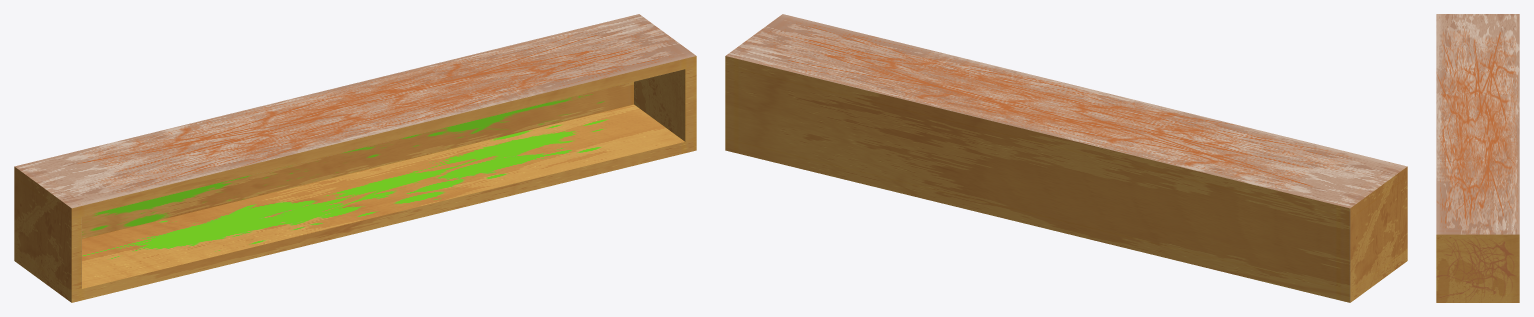
File: Counter4.fbx
3 renders of one model, left to right at view 1: azimuth 30°, elevation 25°; view 2: azimuth 150°, elevation 25°; view 3: azimuth 270°, elevation 25°, orthographic. The views are drawn at different scales.
Visible parts, largest first — view 1: Counter 4; view 2: Counter 4; view 3: Counter 4.
Part boxes in pixels (x1=…): Counter 4: x1=14, y1=14, x2=696, y2=302; Counter 4: x1=725, y1=14, x2=1407, y2=302; Counter 4: x1=1436, y1=14, x2=1519, y2=302.
Size of the model in its own units: 692 by 100 by 110.
